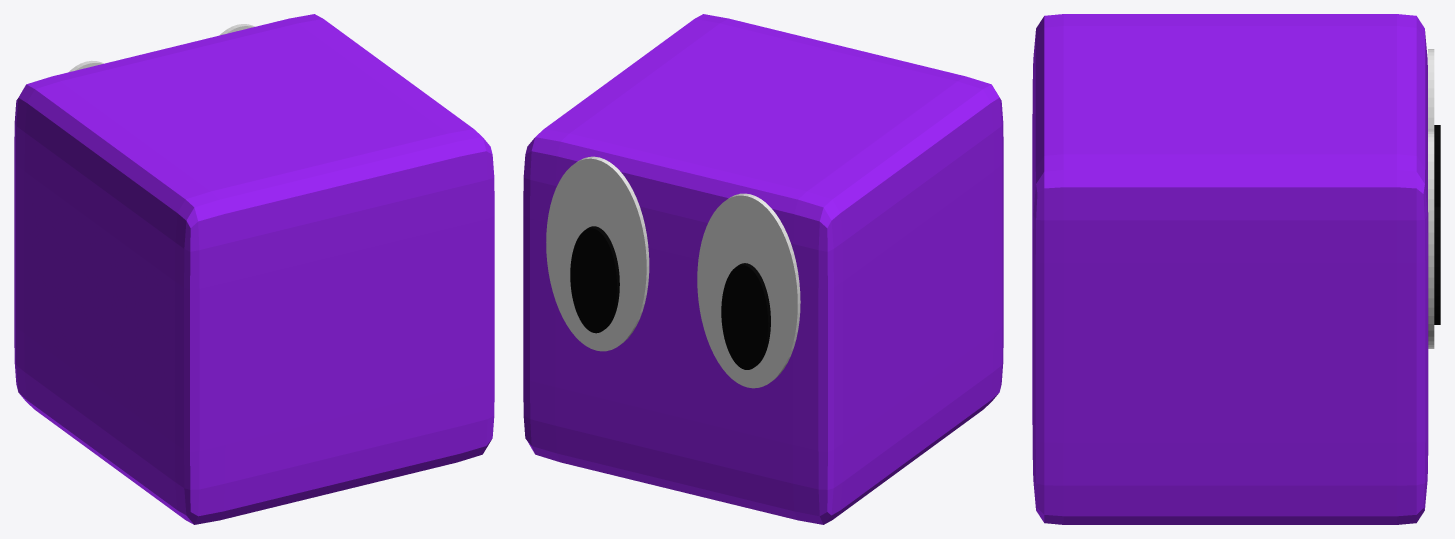
Rendered from player-purple.glb.
3 renders of one model, left to right at view 1: azimuth 30°, elevation 25°; view 2: azimuth 150°, elevation 25°; view 3: azimuth 270°, elevation 25°, orthographic. The views are drawn at different scales.
Parts seen in each view (by area): view 1: player-body; view 2: player-body, player-eye-right-white, player-eye-right-white.001, player-eye-right-black, player-eye-right-black.001; view 3: player-body, player-eye-right-white, player-eye-right-black, player-eye-right-black.001, player-eye-right-white.001.
Boxes of the visible parts, x1,y1,x2,y2 form: player-body: (14, 14, 494, 524); player-body: (523, 14, 1003, 524); player-eye-right-white: (546, 156, 649, 351); player-eye-right-white.001: (697, 193, 800, 388); player-eye-right-black: (570, 226, 619, 333); player-eye-right-black.001: (721, 263, 770, 369); player-body: (1032, 14, 1428, 524); player-eye-right-white: (1428, 130, 1434, 348); player-eye-right-black: (1434, 206, 1440, 324); player-eye-right-black.001: (1434, 125, 1440, 206); player-eye-right-white.001: (1428, 49, 1434, 130).
Bounding box in the file's own units: 0.4 × 0.4 × 0.4122.
